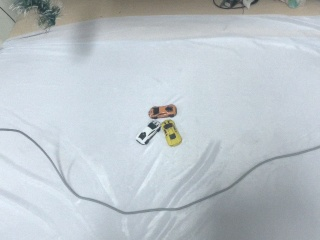toy_car: (212, 1, 260, 9)
